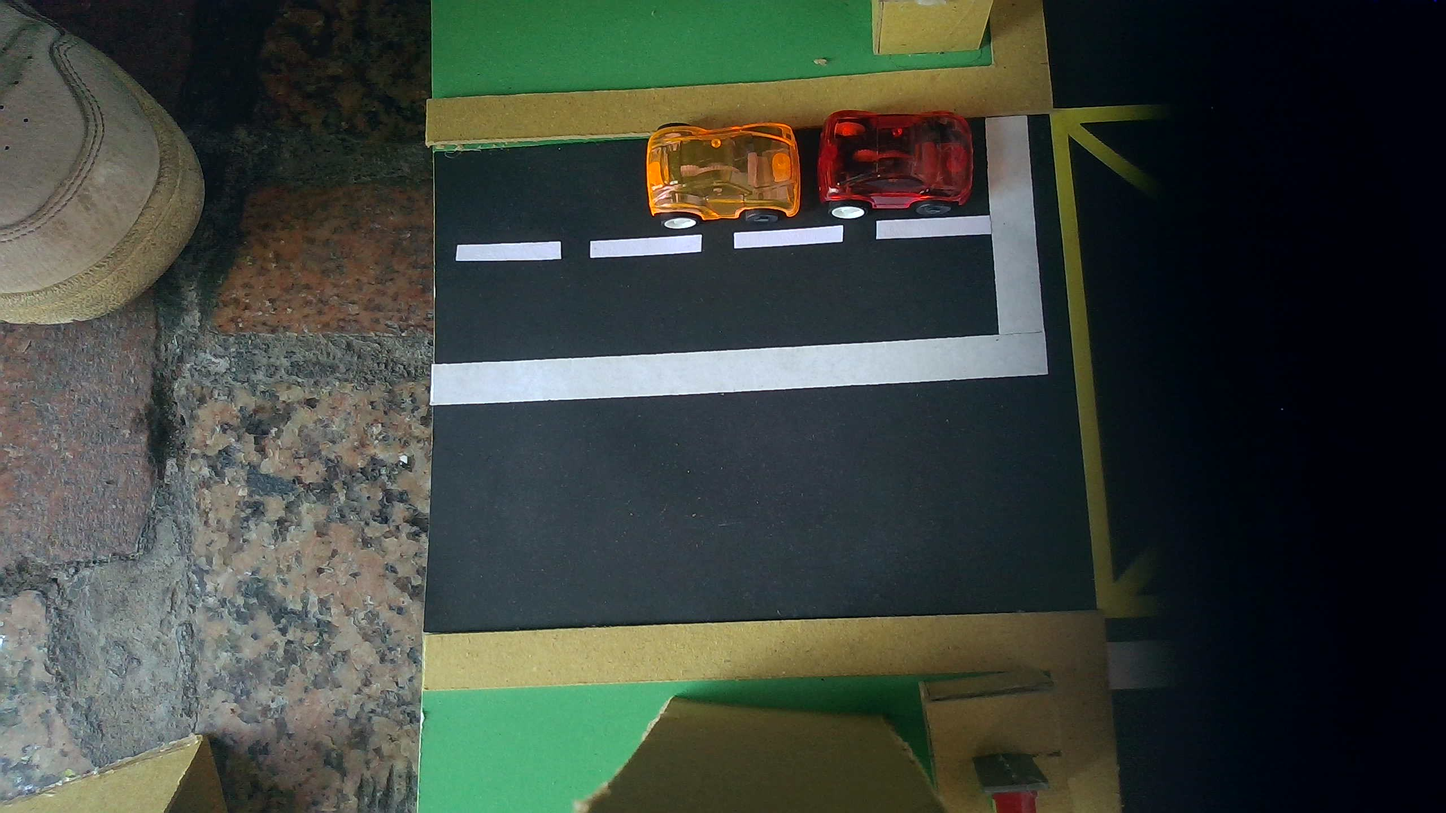Mobil merah: (818, 111, 974, 218)
Mobil orange: (646, 123, 801, 229)
